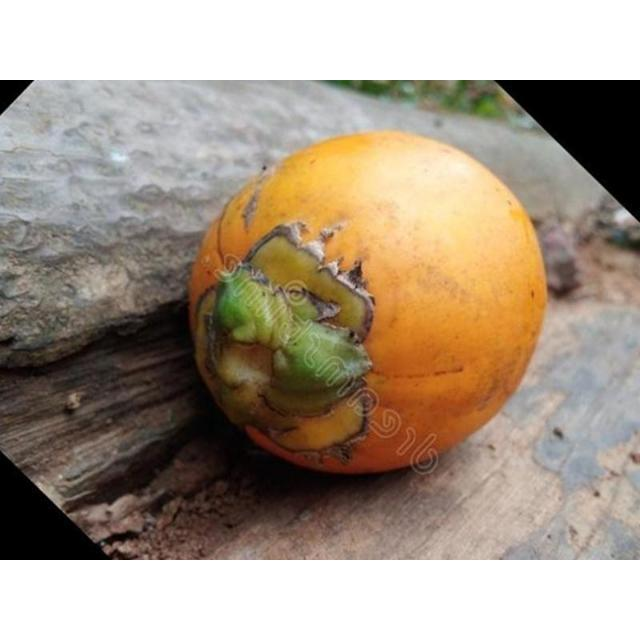good: (186, 131, 549, 478)
